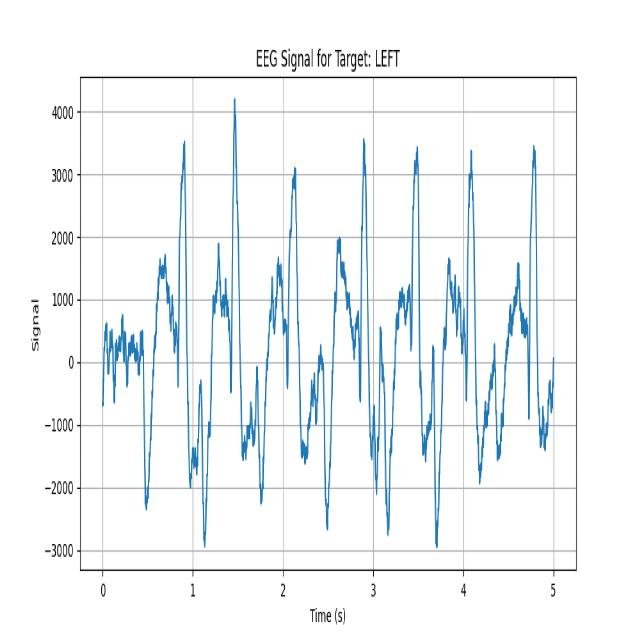LEFT: (323, 87, 387, 546), (449, 87, 510, 563), (387, 87, 449, 554), (262, 87, 323, 543), (202, 91, 263, 544), (140, 131, 204, 547), (510, 88, 556, 563)
